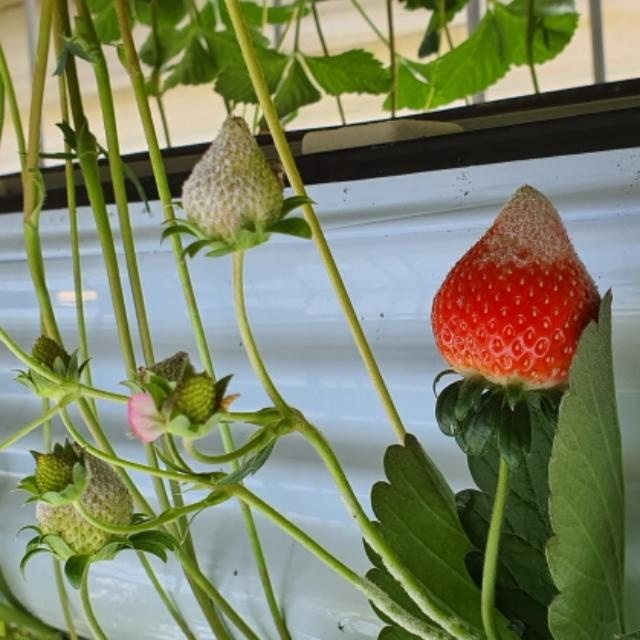Powdery Mildew Fruit: (473, 186, 604, 297), (184, 119, 284, 246), (38, 447, 134, 555)
